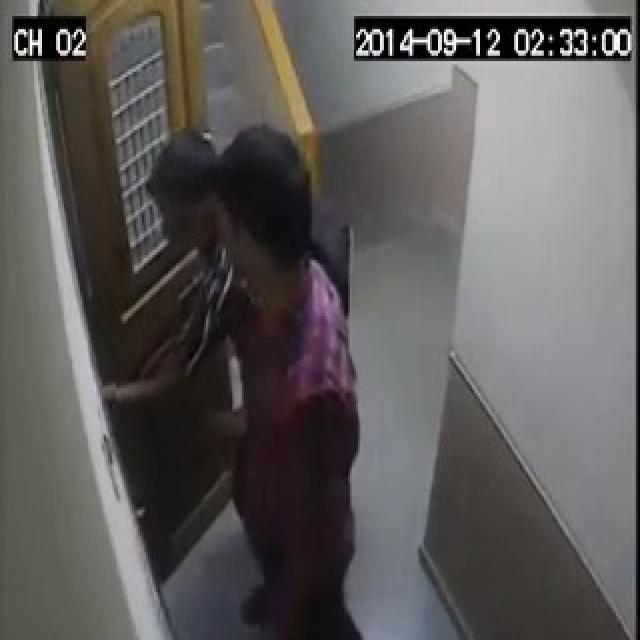burglary: (81, 148, 381, 550)
